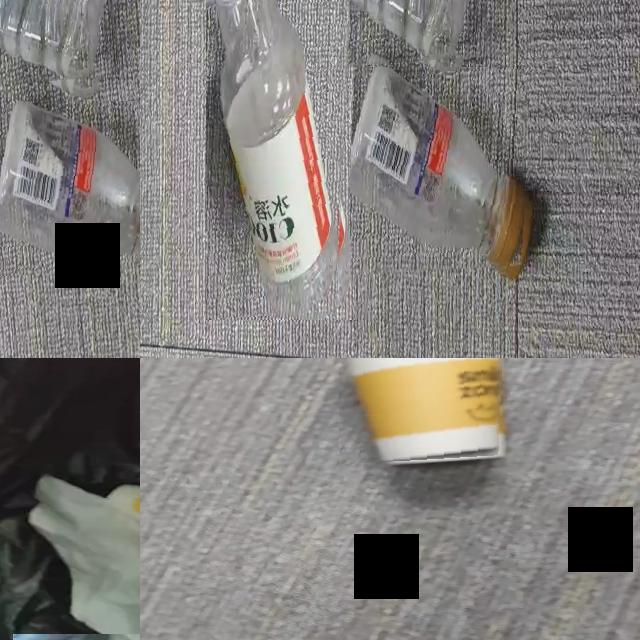bottle: (214, 0, 343, 317), (350, 67, 526, 270), (0, 101, 140, 263), (0, 0, 104, 83)
dixie_cup: (346, 358, 501, 463)
paper: (29, 476, 140, 640)
